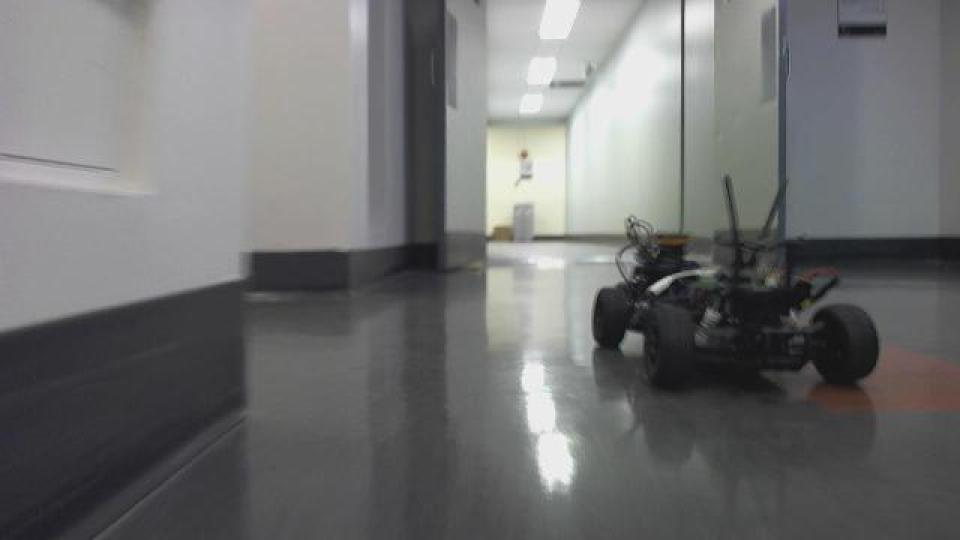car: (586, 173, 882, 392)
